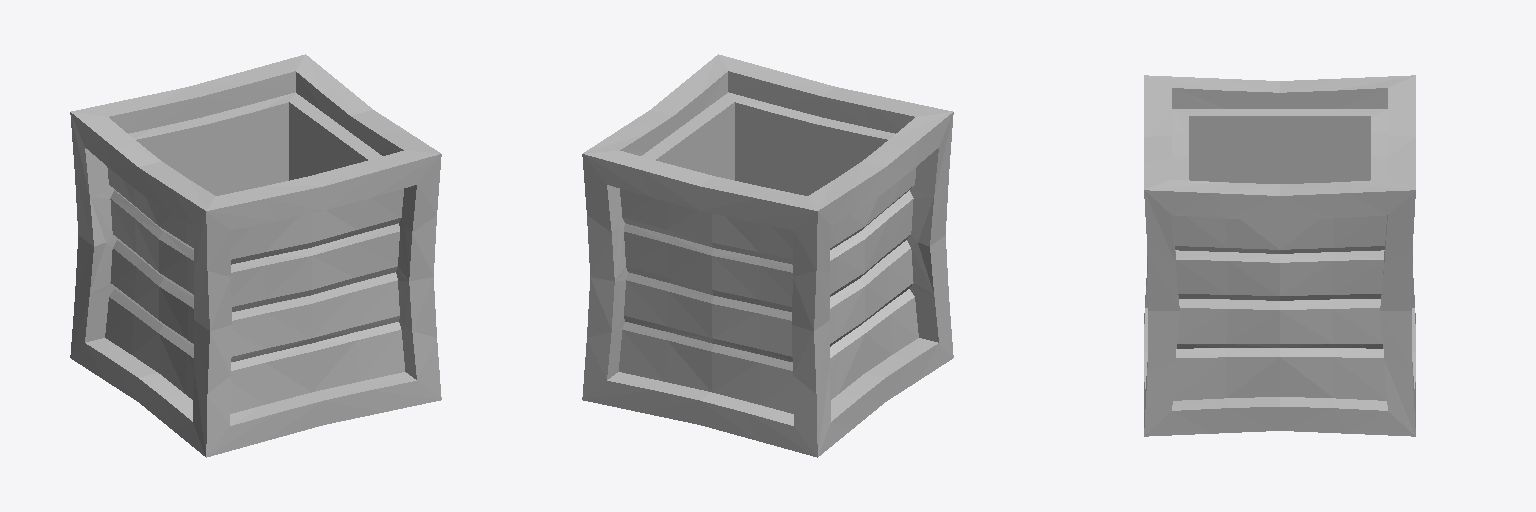
File: crate_open.obj
3 views of the same model, side by side, from view 1: azimuth 30°, elevation 25°; view 2: azimuth 150°, elevation 25°; view 3: azimuth 270°, elevation 25° (orthographic).
Visible parts, largest first — view 1: Cube.002; view 2: Cube.002; view 3: Cube.002.
Part boxes in pixels (bbox=[...]): Cube.002: bbox=[70, 54, 441, 457]; Cube.002: bbox=[582, 54, 953, 457]; Cube.002: bbox=[1144, 75, 1415, 436].
Size of the model in its own units: 2 by 2 by 2.